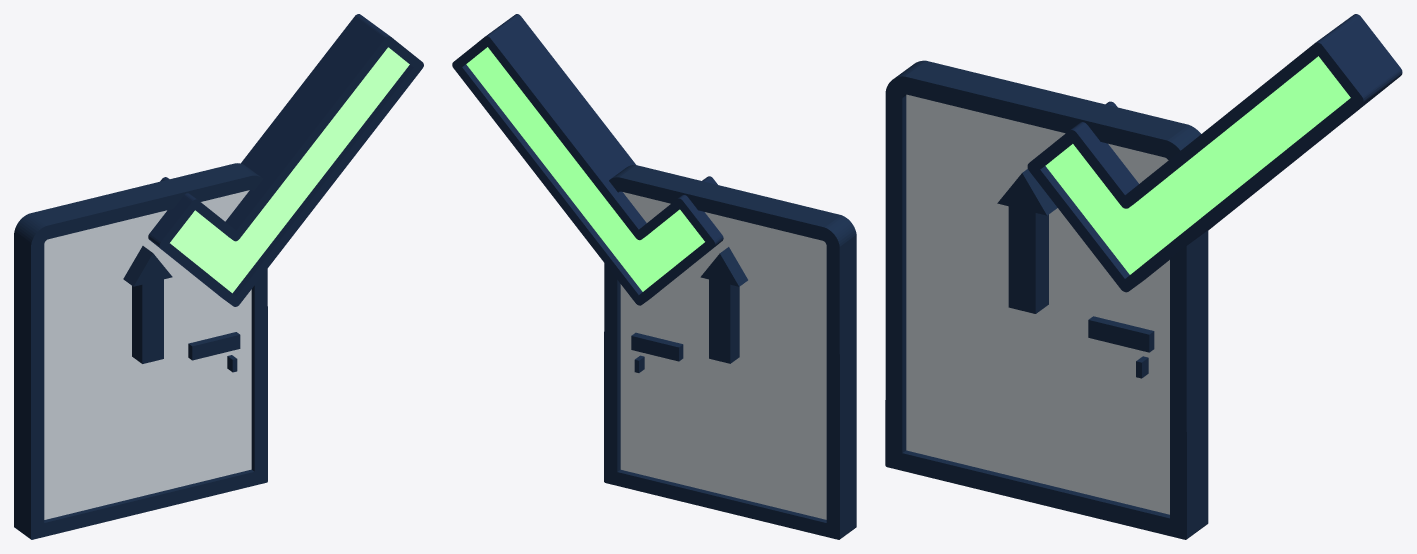
File: l-icons-door-in-check.glb
3 renders of one model, left to right at view 1: azimuth 30°, elevation 25°; view 2: azimuth 150°, elevation 25°; view 3: azimuth 330°, elevation 25°, orthographic. The views are drawn at different scales.
Parts seen in each view (by area): view 1: doorIn, Checkmarkx.006; view 2: doorIn, Checkmarkx.006; view 3: doorIn, Checkmarkx.006.
Part boxes in pixels (bbox=[...]): doorIn: bbox=[14, 163, 267, 539]; Checkmarkx.006: bbox=[148, 14, 423, 306]; doorIn: bbox=[604, 165, 856, 539]; Checkmarkx.006: bbox=[452, 14, 723, 305]; doorIn: bbox=[885, 60, 1208, 539]; Checkmarkx.006: bbox=[1027, 14, 1402, 292].
Bounding box in the file's own units: 0.6512 × 0.6875 × 0.0919.
Materials: 3 (1 with a texture image).
